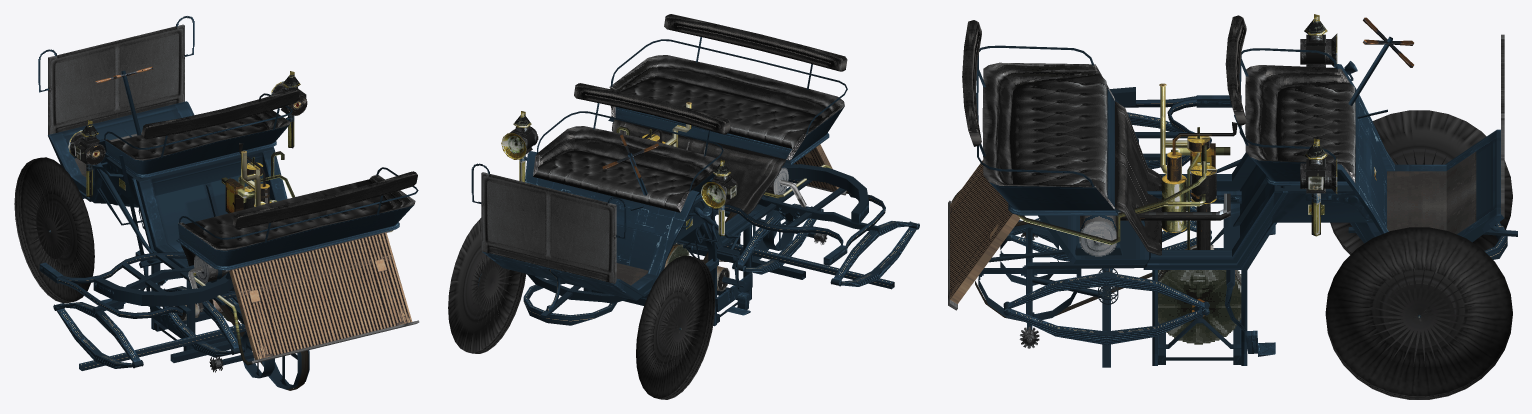
Rendered from dmlr0001.glb.
3 renders of one model, left to right at view 1: azimuth 30°, elevation 25°; view 2: azimuth 150°, elevation 25°; view 3: azimuth 270°, elevation 25°, orthographic. The views are drawn at different scales.
Parts seen in each view (by area): view 1: body, tire_rear_right; view 2: body, tire_rear_right, tire_rear_left; view 3: body, tire_rear_left, tire_rear_right.
Boxes of the visible parts, box(x1,y1,x2,y2) form: body: box(38, 16, 419, 390); tire_rear_right: box(14, 157, 94, 303); body: box(471, 14, 919, 326); tire_rear_right: box(636, 255, 715, 399); tire_rear_left: box(448, 218, 526, 353); body: box(948, 14, 1517, 367); tire_rear_left: box(1325, 227, 1512, 399); tire_rear_right: box(1330, 110, 1512, 254).
Size of the model in its own units: 1.86 by 1.33 by 2.38.
91 materials, 91 textured.
